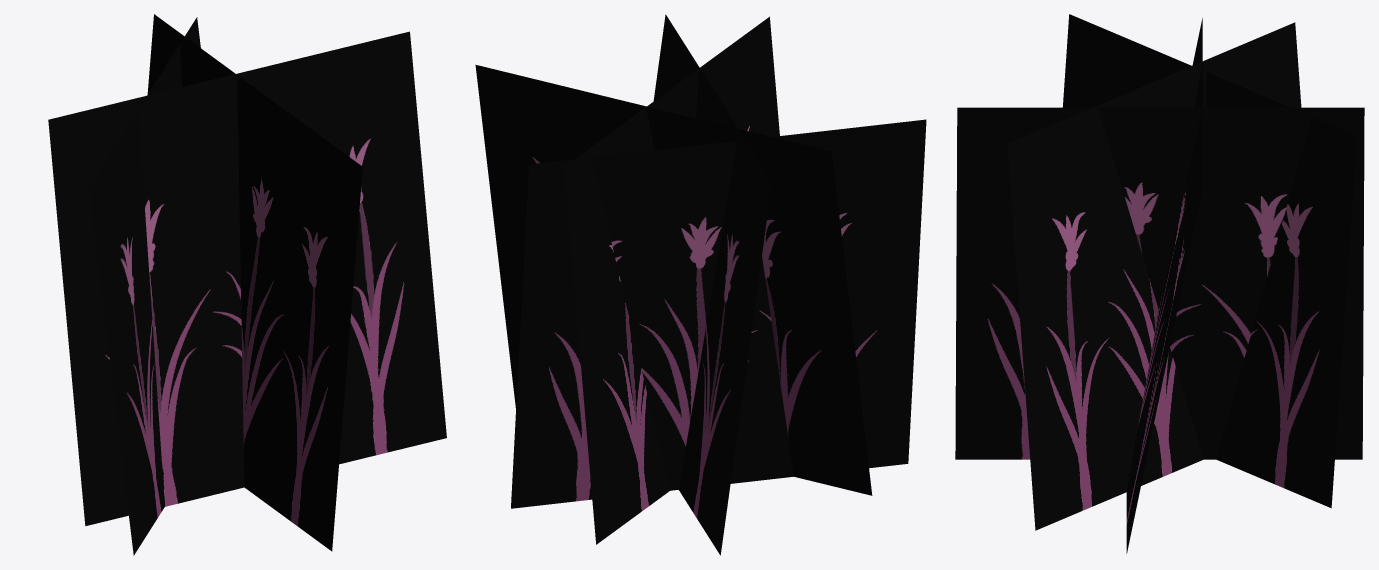
The model's file is Grass.fbx.
3 views of the same model, side by side, from view 1: azimuth 30°, elevation 25°; view 2: azimuth 150°, elevation 25°; view 3: azimuth 270°, elevation 25° (orthographic). The views are drawn at different scales.
Parts seen in each view (by area): view 1: Plane; view 2: Plane; view 3: Plane.
Part boxes in pixels (bbox=[...]): Plane: bbox=[48, 14, 446, 555]; Plane: bbox=[475, 14, 926, 555]; Plane: bbox=[955, 14, 1364, 553].
Bounding box in the file's own units: 108 × 99.92 × 100.
Materials: 1 (1 with a texture image).
